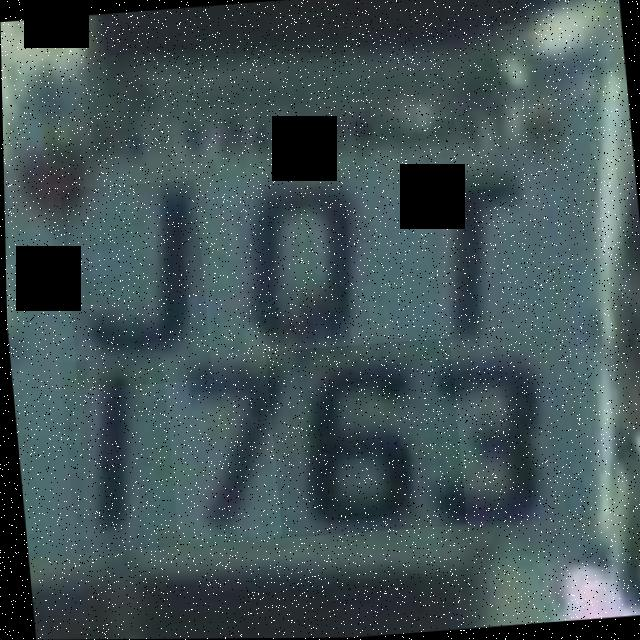1: (57, 355, 177, 554)
3: (375, 324, 591, 534)
6: (263, 338, 464, 539)
7: (160, 349, 308, 543)
J: (58, 180, 211, 390)
T: (388, 147, 531, 341)
